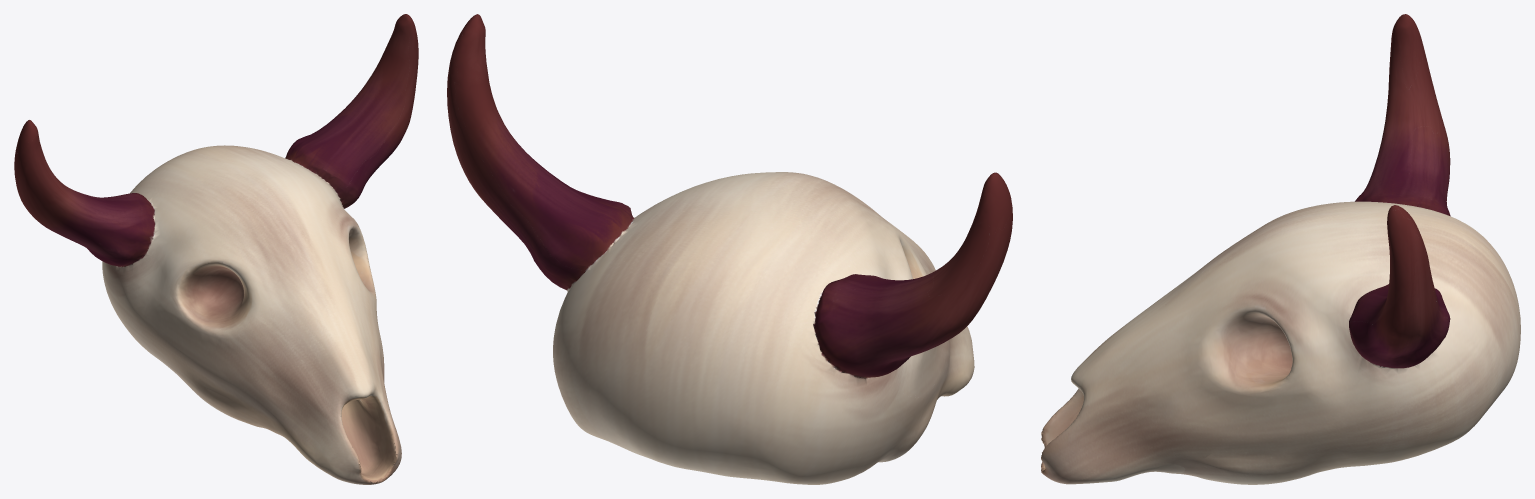
Rendered from skull2.fbx.
The picture shows the model from 3 angles, left to right: view 1: azimuth 30°, elevation 25°; view 2: azimuth 150°, elevation 25°; view 3: azimuth 270°, elevation 25°; orthographic projection. The views are drawn at different scales.
Parts seen in each view (by area): view 1: skull_aksinia.001; view 2: skull_aksinia.001; view 3: skull_aksinia.001.
Boxes of the visible parts, box(x1,y1,x2,y2) form: skull_aksinia.001: box(14, 14, 418, 484); skull_aksinia.001: box(447, 14, 1012, 484); skull_aksinia.001: box(1041, 14, 1520, 484).
Size of the model in its own units: 143 by 109 by 128.
1 material, 1 textured.
